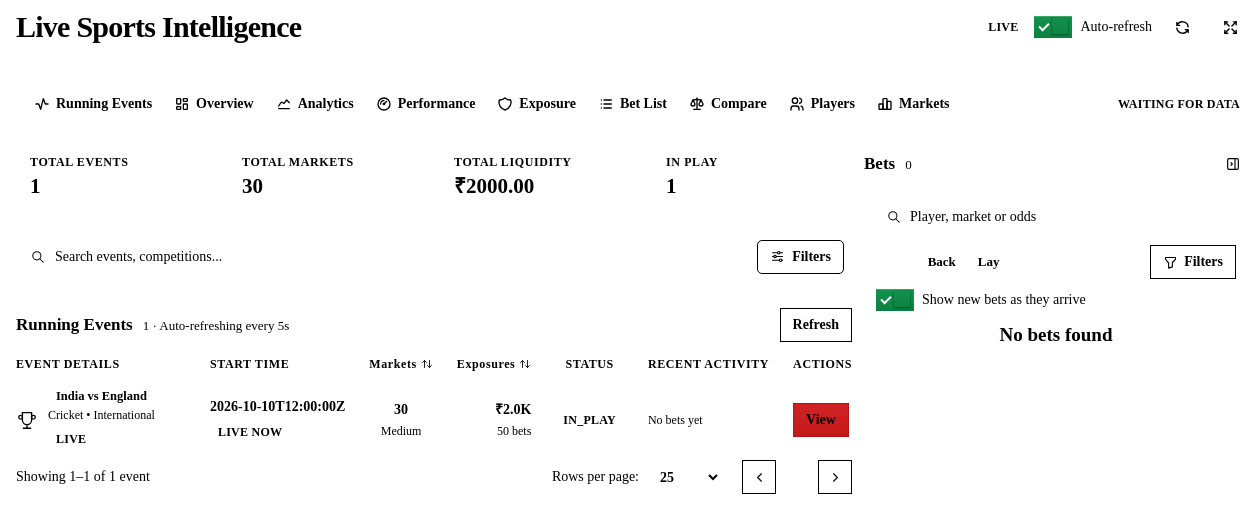
Test: dashboard-backed tabs retain connection states while independent lists render without a snapshot
The width and height of the screenshot is (1257, 511).
Later steps or results of the test are not shown.
Check: the table named "Running Events" is shown, box [16,348,852,460]
Click the tab "Overview" at (214, 104), box [164,82,264,126]
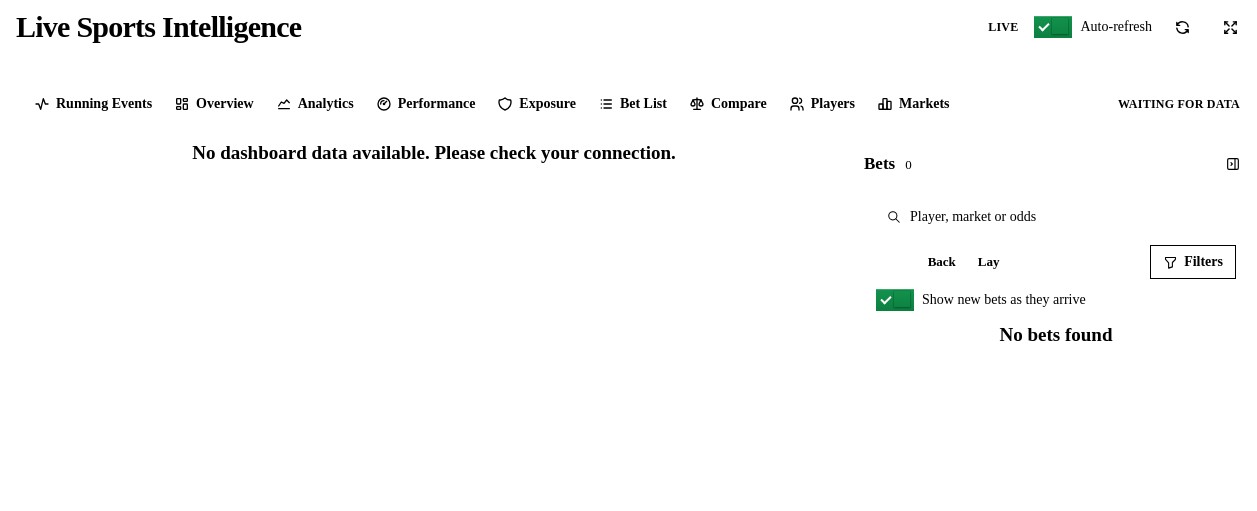
Check: the text "No dashboard data available. Please check your connection." is shown, box [192,142,676,163]
